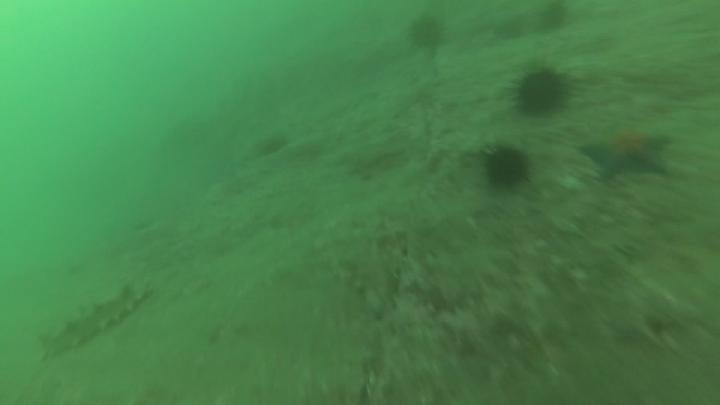echinus: (509, 64, 572, 121), (481, 143, 532, 191), (406, 12, 447, 53), (534, 2, 572, 36), (252, 130, 291, 160)
holothurian: (35, 278, 153, 361), (334, 219, 410, 315)
starfish: (576, 122, 675, 184)
